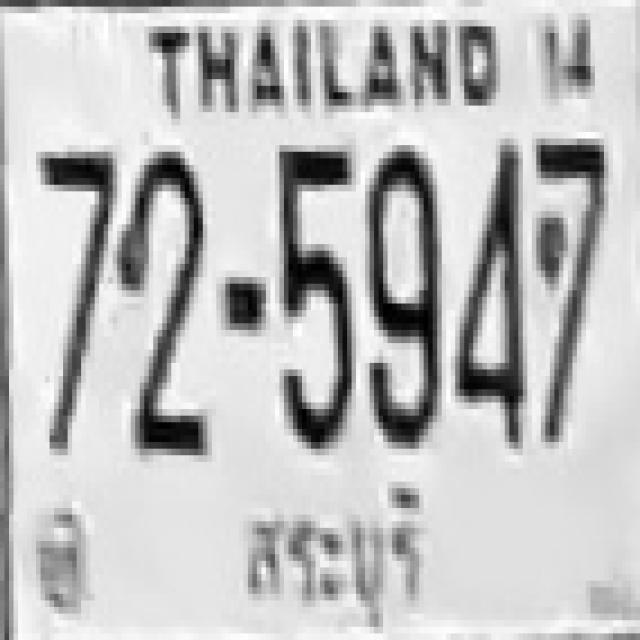0: (365, 139, 437, 442)
2: (115, 146, 212, 456)
4: (451, 139, 523, 442)
5: (275, 145, 351, 442)
7: (38, 145, 115, 442), (532, 132, 604, 442)
9: (365, 139, 437, 442)
SRI: (233, 476, 440, 636)
